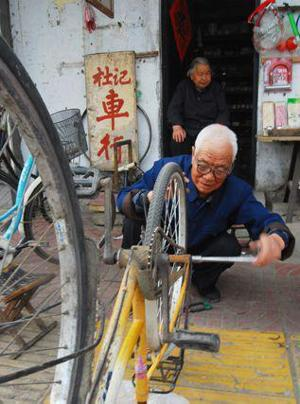person: (117, 122, 296, 304)
